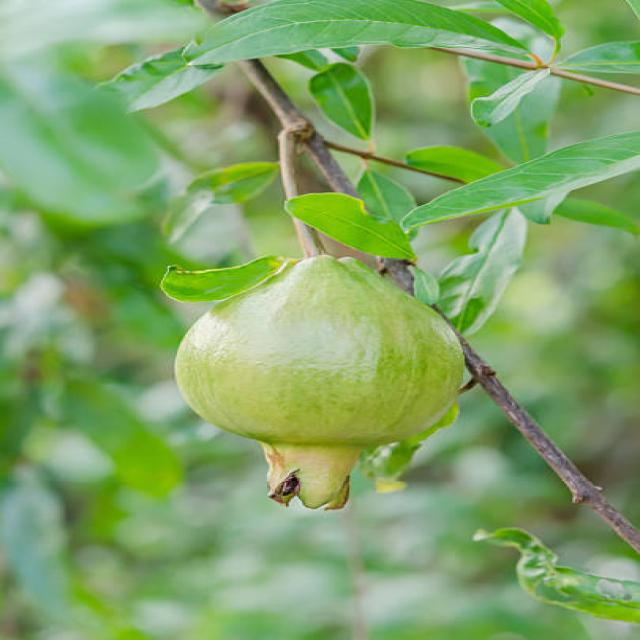Unripe: (180, 255, 468, 509)
